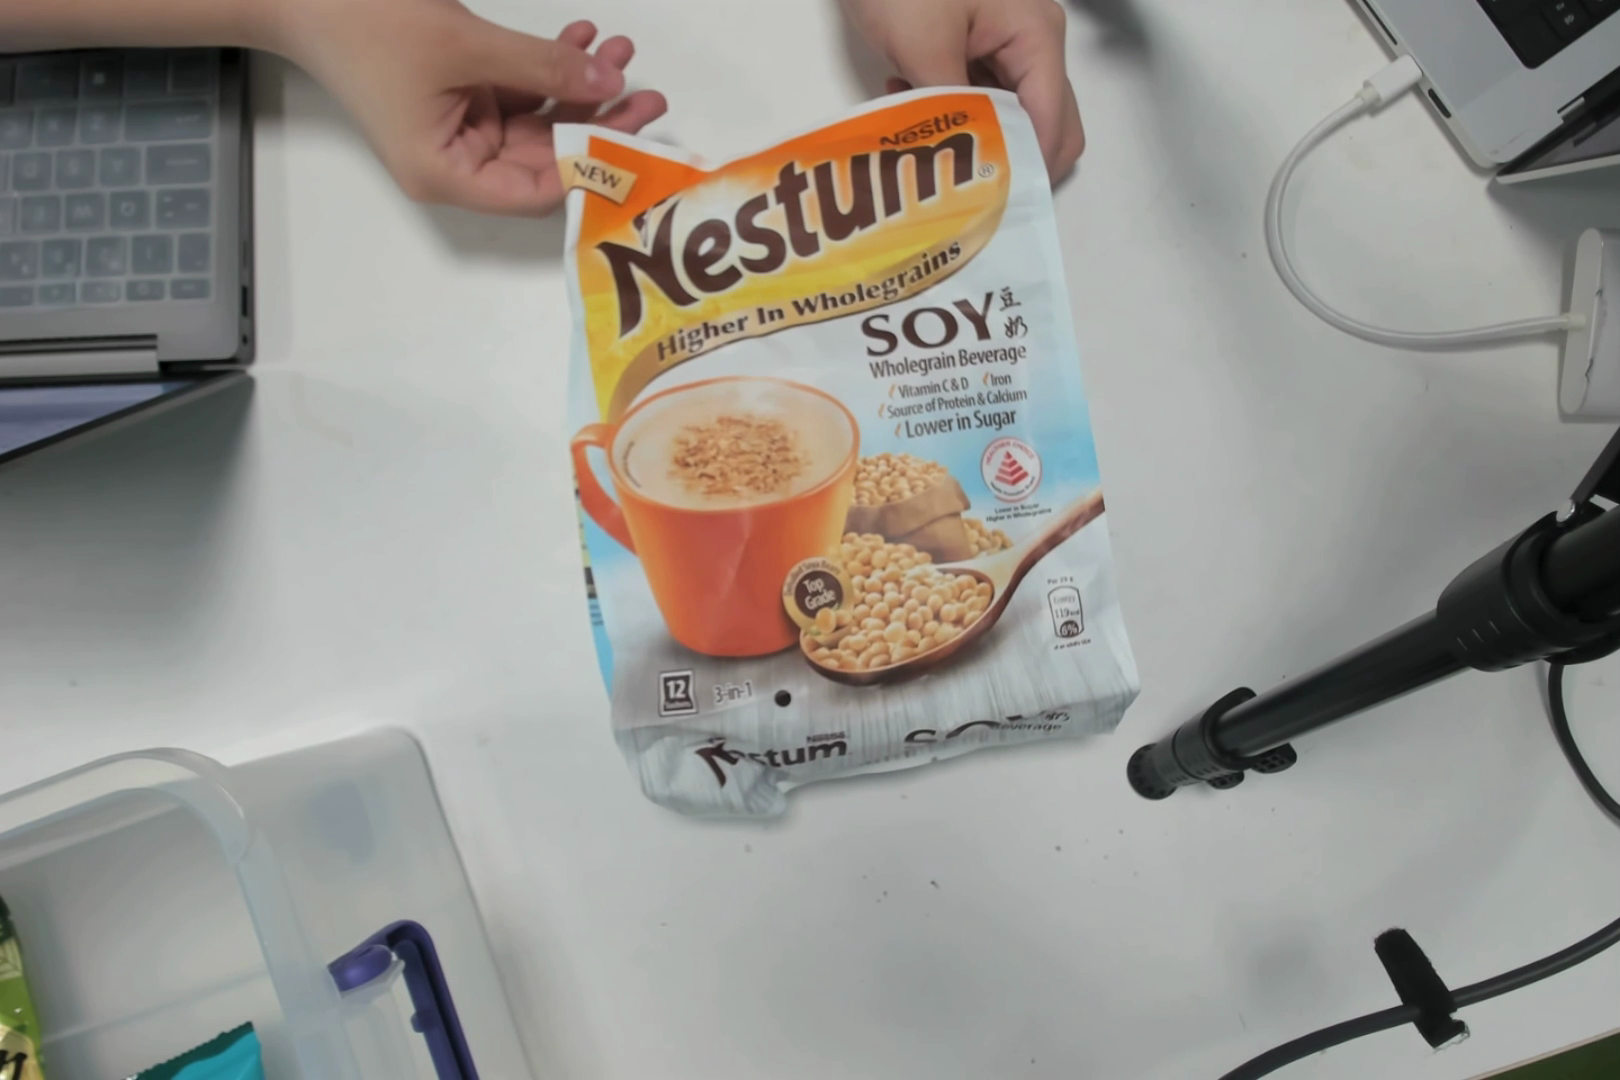e: (573, 129, 1096, 777)
